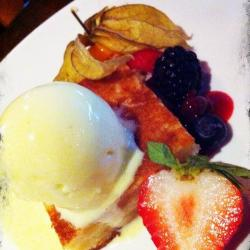icecream: (2, 79, 141, 223)
